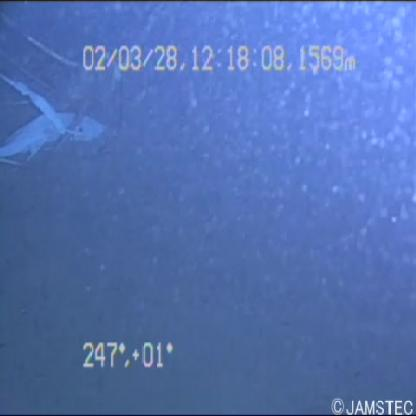Rác: (1, 51, 105, 185)
